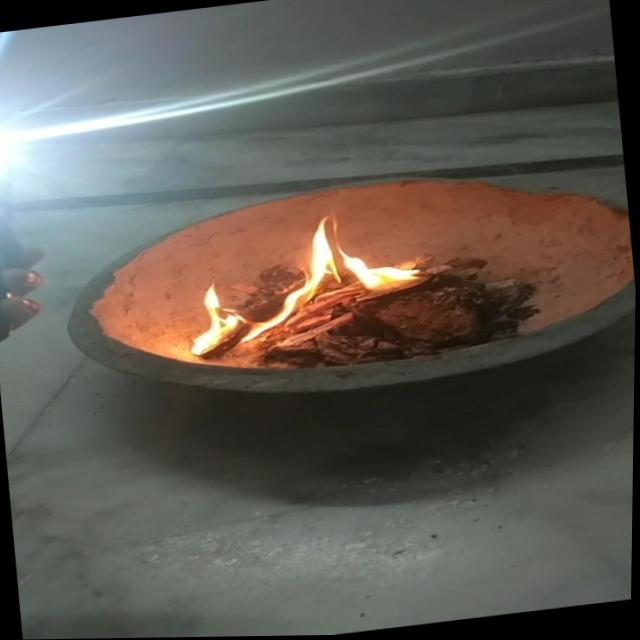fire: (231, 198, 432, 344), (173, 270, 252, 361)
